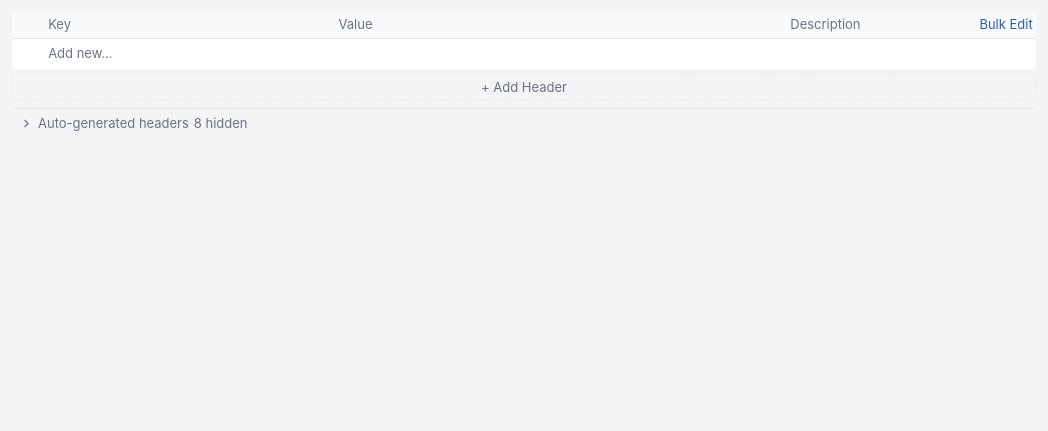
AutoHeadersSection (issue #204) › renders the rows with source badges and masks Authorization
Click the button with test id "auto-headers-toggle": point(113, 123) [12, 109, 1036, 138]
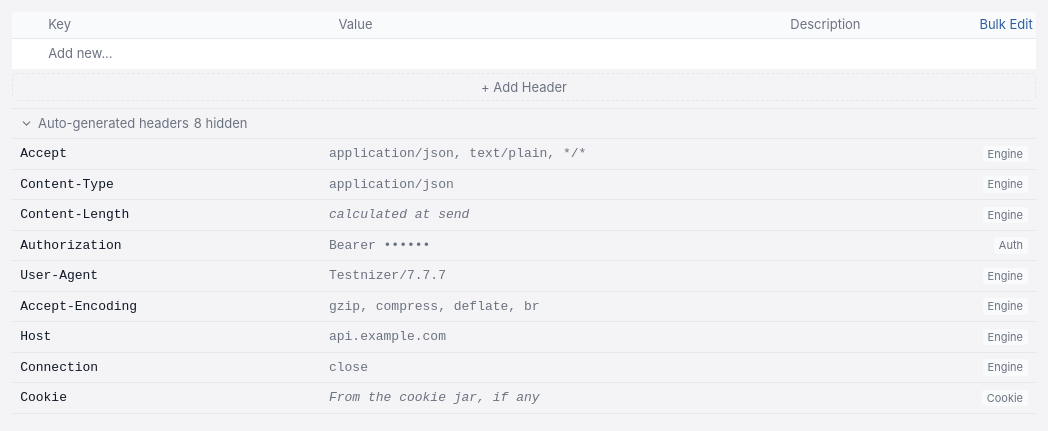
expect the text with test id "auto-header-source" reads "Auth": met, box [999, 238, 1023, 252]
expect the text with test id "auto-header-value" reads "application/json": met, box [329, 177, 454, 192]
expect the element with test id "auto-header-row" shows "api.example.com": met, box [329, 329, 446, 344]
